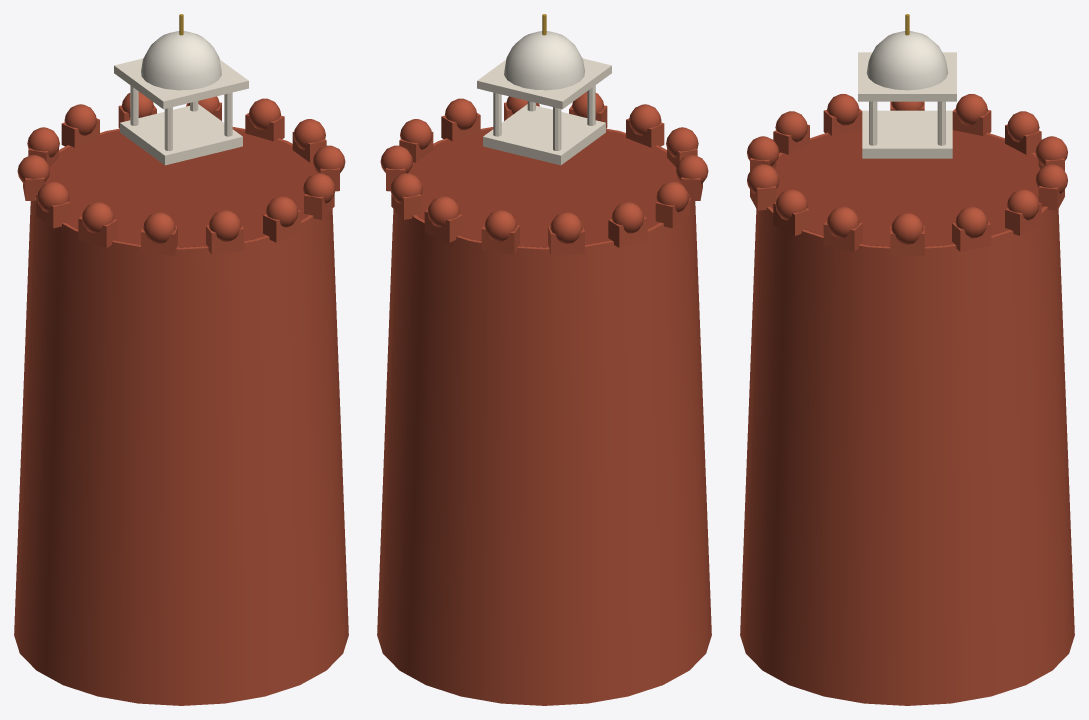
The model's file is tower.glb.
The picture shows the model from 3 angles, left to right: view 1: azimuth 30°, elevation 25°; view 2: azimuth 150°, elevation 25°; view 3: azimuth 270°, elevation 25°; orthographic projection.
Parts seen in each view (by area): view 1: Tower; view 2: Tower; view 3: Tower.
Boxes of the visible parts, box(x1,y1,x2,y2) form: Tower: box(14, 14, 348, 705); Tower: box(377, 14, 711, 705); Tower: box(740, 14, 1074, 705).
Bounding box in the file's own units: 7.8 × 15.95 × 7.8.
